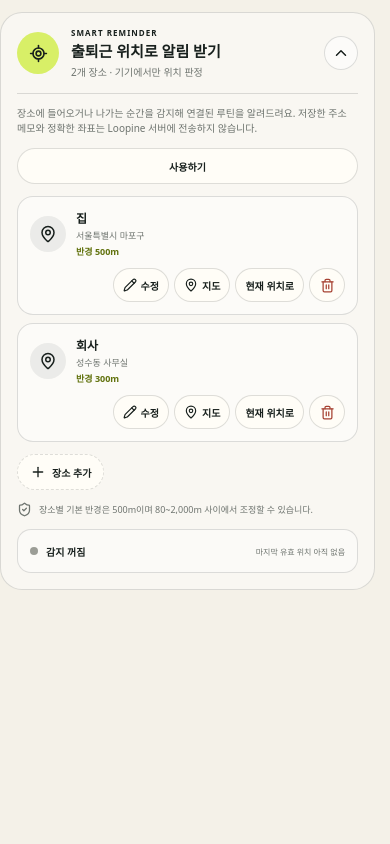
Scenario: SmartLocationSettings accordion, edit popup, and delete confirmation popup › opens edit popup when clicking modify button and saves changes
Click the button with aria-label "집 수정": (141, 285) [113,268,169,302]
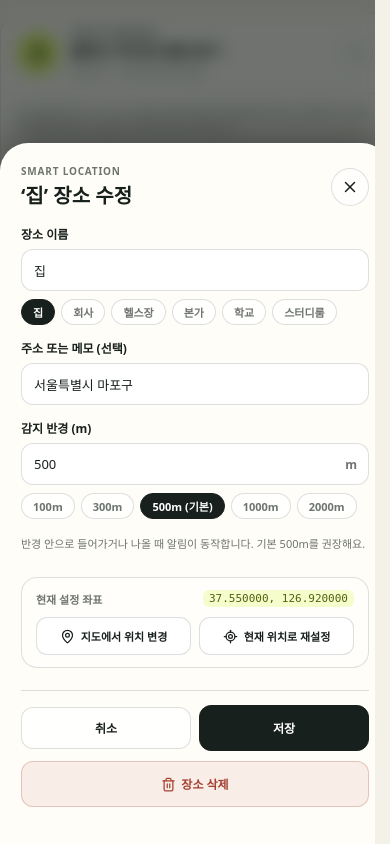
Expected: the heading "‘집’ 장소 수정" is shown, [21,180,132,209]
Expected: the field labelled "장소 이름" holds "집"
Expected: the field labelled "주소 또는 메모 (선택)" holds "서울특별시 마포구", [21,363,369,405]
Note: Update inputs
Replace the text in the field labelled "장소 이름" with "우리집": (195, 270) [21,249,369,291]
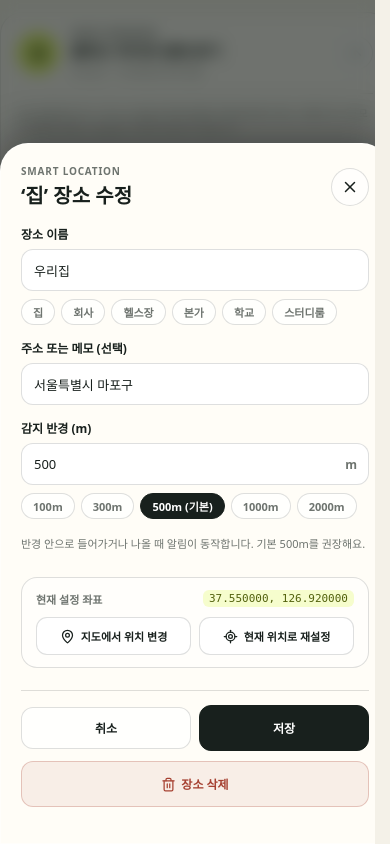
Replace the text in the field labelled "주소 또는 메모 (선택)" with "합정역 근처": (195, 384) [21,363,369,405]
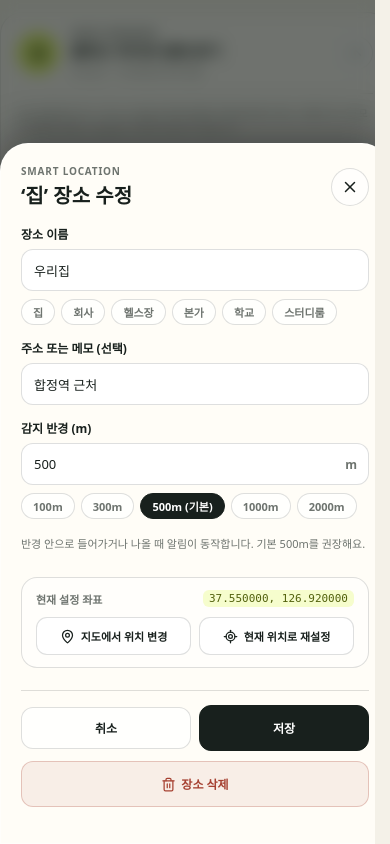
Replace the text in the number field labelled "감지 반경 (m)" with "300": (195, 464) [21,443,369,485]
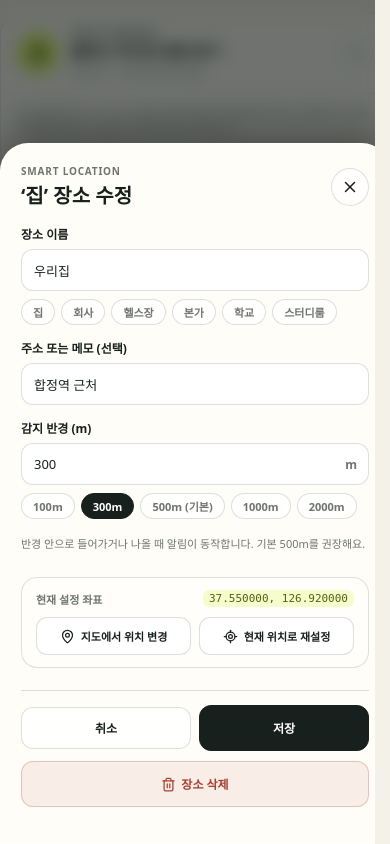
Click the button "저장": (284, 728) [199,705,369,751]
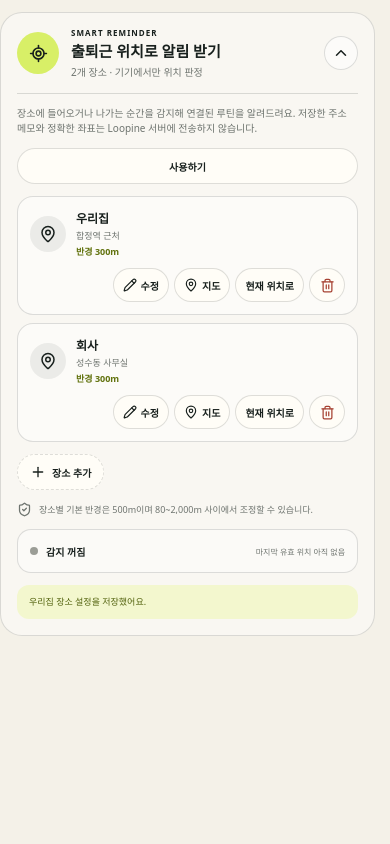
Expected: the heading "‘집’ 장소 수정" is gone
Expected: the text "우리집" is shown, [76,210,109,227]
Expected: the text "우리집" shows "합정역 근처", [76,229,120,242]
